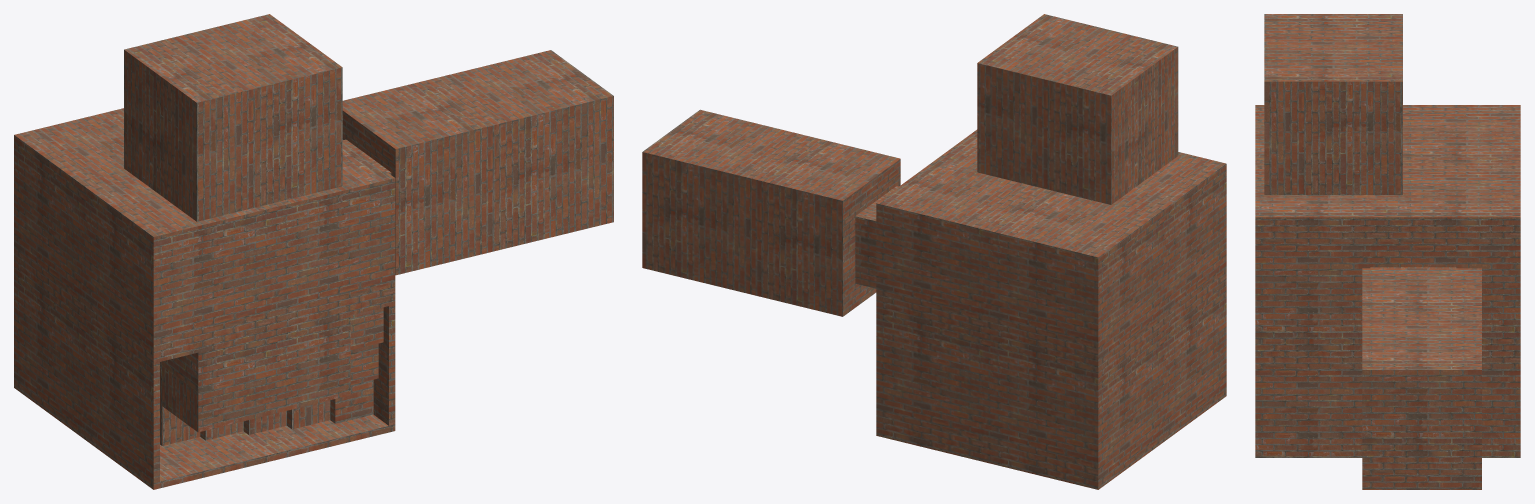
File: Test_Level.dae
The picture shows the model from 3 angles, left to right: view 1: azimuth 30°, elevation 25°; view 2: azimuth 150°, elevation 25°; view 3: azimuth 270°, elevation 25°; orthographic projection. The views are drawn at different scales.
Parts seen in each view (by area): view 1: Cube; view 2: Cube; view 3: Cube.
Part boxes in pixels (x1,y1,x2,y2): Cube: (14,14,613,489); Cube: (642,14,1226,489); Cube: (1255,14,1520,489).
Bounding box in the file's own units: 11.65 × 5.45 × 8.01.
